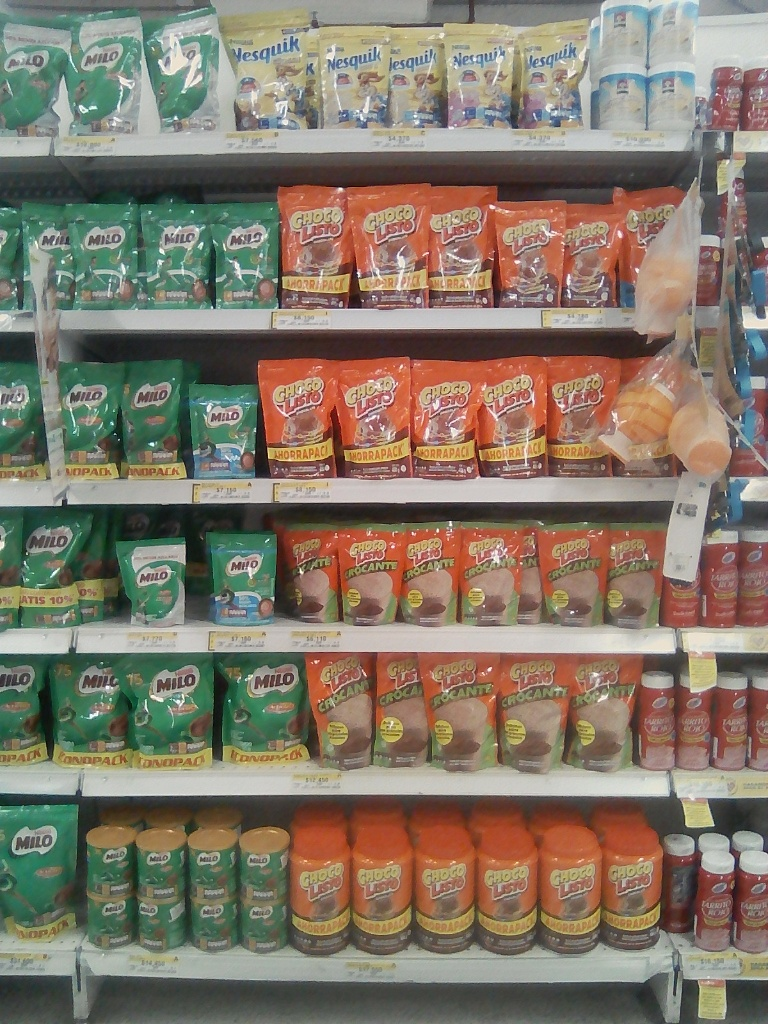COL0170102DYP25000: (279, 519, 343, 623)
COL0170102DYP50000: (300, 651, 378, 768)
COL0170103DYP20000: (561, 198, 629, 307)
COL0170103DYP40000: (272, 184, 355, 307)
COL0170103TRR00100: (281, 823, 352, 956)
COL0170203DYP25000: (15, 198, 78, 310)
COL0170203DYP50000: (0, 357, 44, 479)
COL0170203LAT40000: (80, 823, 138, 896)
COL0170205DYP20000: (190, 382, 260, 478)
COL0170205DYP50000: (0, 13, 74, 139)
COL0170305DYP20000: (513, 19, 594, 130)
COL0170306DYP20000: (311, 22, 392, 128)
